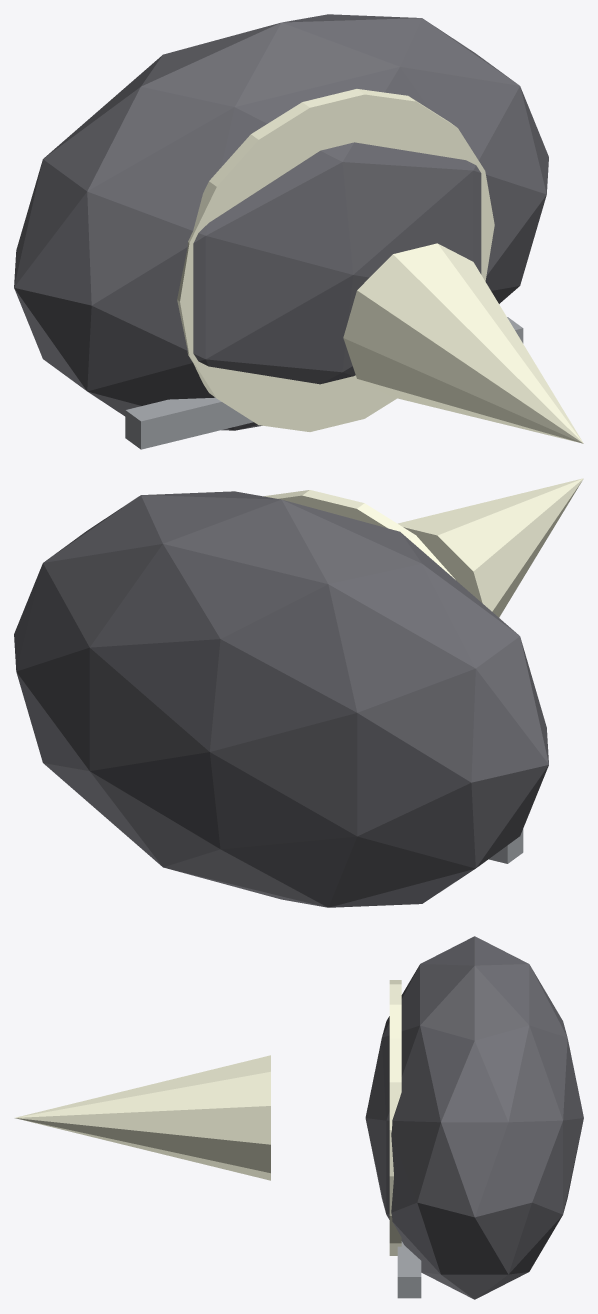
The model's file is 01_event_arena_anchor.glb.
The picture shows the model from 3 angles, top to bottom: view 1: azimuth 30°, elevation 25°; view 2: azimuth 150°, elevation 25°; view 3: azimuth 270°, elevation 25°; orthographic projection. The views are drawn at different scales.
Parts seen in each view (by area): view 1: basalt_mass, heat_plume, magma_pool, pressure_pipe; view 2: basalt_mass, heat_plume, magma_pool; view 3: basalt_mass, heat_plume, magma_pool, pressure_pipe.
Boxes of the visible parts, x1,y1,x2,y2 form: basalt_mass: (14, 14, 548, 430); heat_plume: (343, 243, 583, 443); magma_pool: (177, 89, 494, 431); pressure_pipe: (125, 317, 523, 449); basalt_mass: (14, 491, 548, 907); heat_plume: (398, 478, 583, 617); magma_pool: (264, 490, 455, 579); basalt_mass: (365, 936, 583, 1299); heat_plume: (15, 1055, 270, 1180); magma_pool: (389, 980, 401, 1255); pressure_pipe: (397, 1241, 421, 1298).
Bounding box in the file's own units: 2.38 × 1.7 × 2.88.
